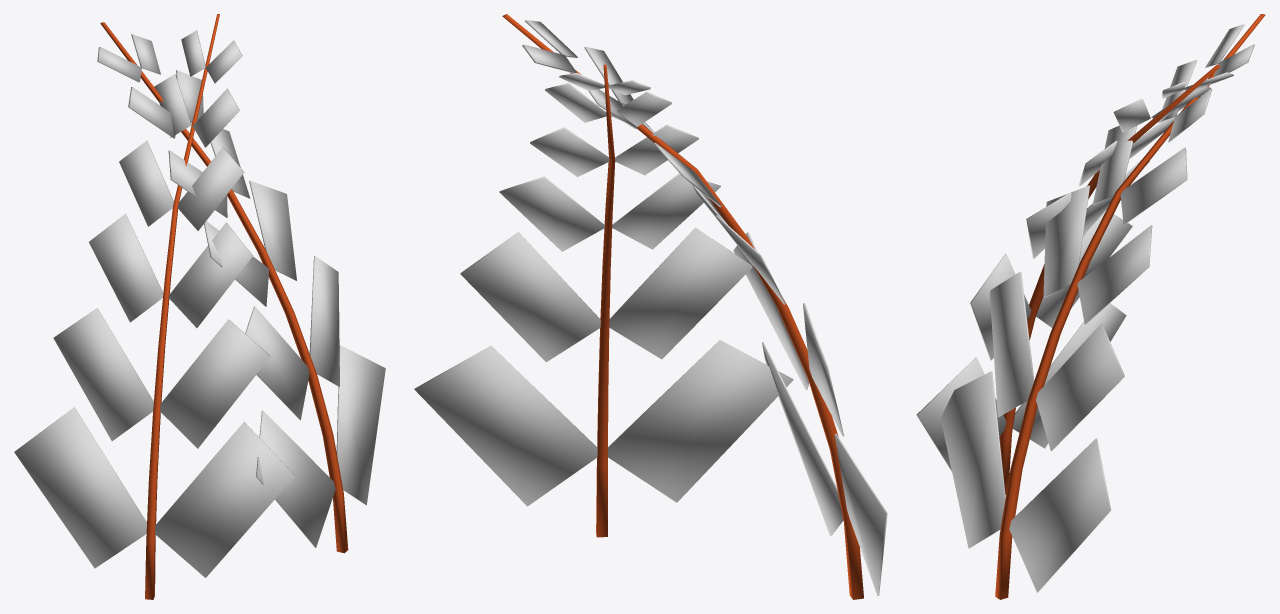
File: Fern.fbx
The picture shows the model from 3 angles, left to right: view 1: azimuth 30°, elevation 25°; view 2: azimuth 150°, elevation 25°; view 3: azimuth 270°, elevation 25°; orthographic projection. The views are drawn at different scales.
Parts seen in each view (by area): view 1: GenericPlant_LOD0; view 2: GenericPlant_LOD0; view 3: GenericPlant_LOD0.
Part boxes in pixels (<box>): GenericPlant_LOD0: <box>14,14,385,599</box>; GenericPlant_LOD0: <box>414,14,887,599</box>; GenericPlant_LOD0: <box>916,14,1265,599</box>.
Size of what is drawn, in the model's own units: 52.04 by 64.25 by 39.23.
